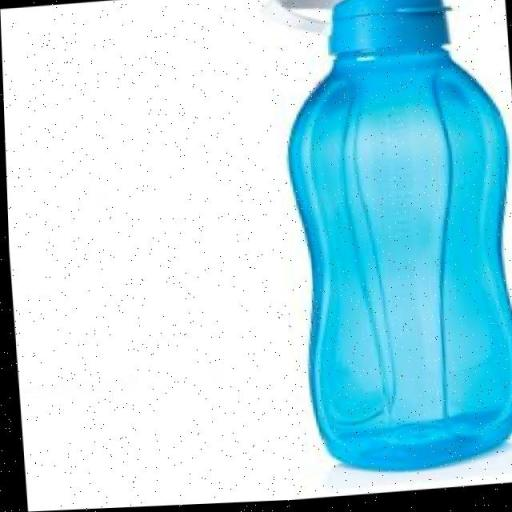plastic: (102, 0, 512, 509)
